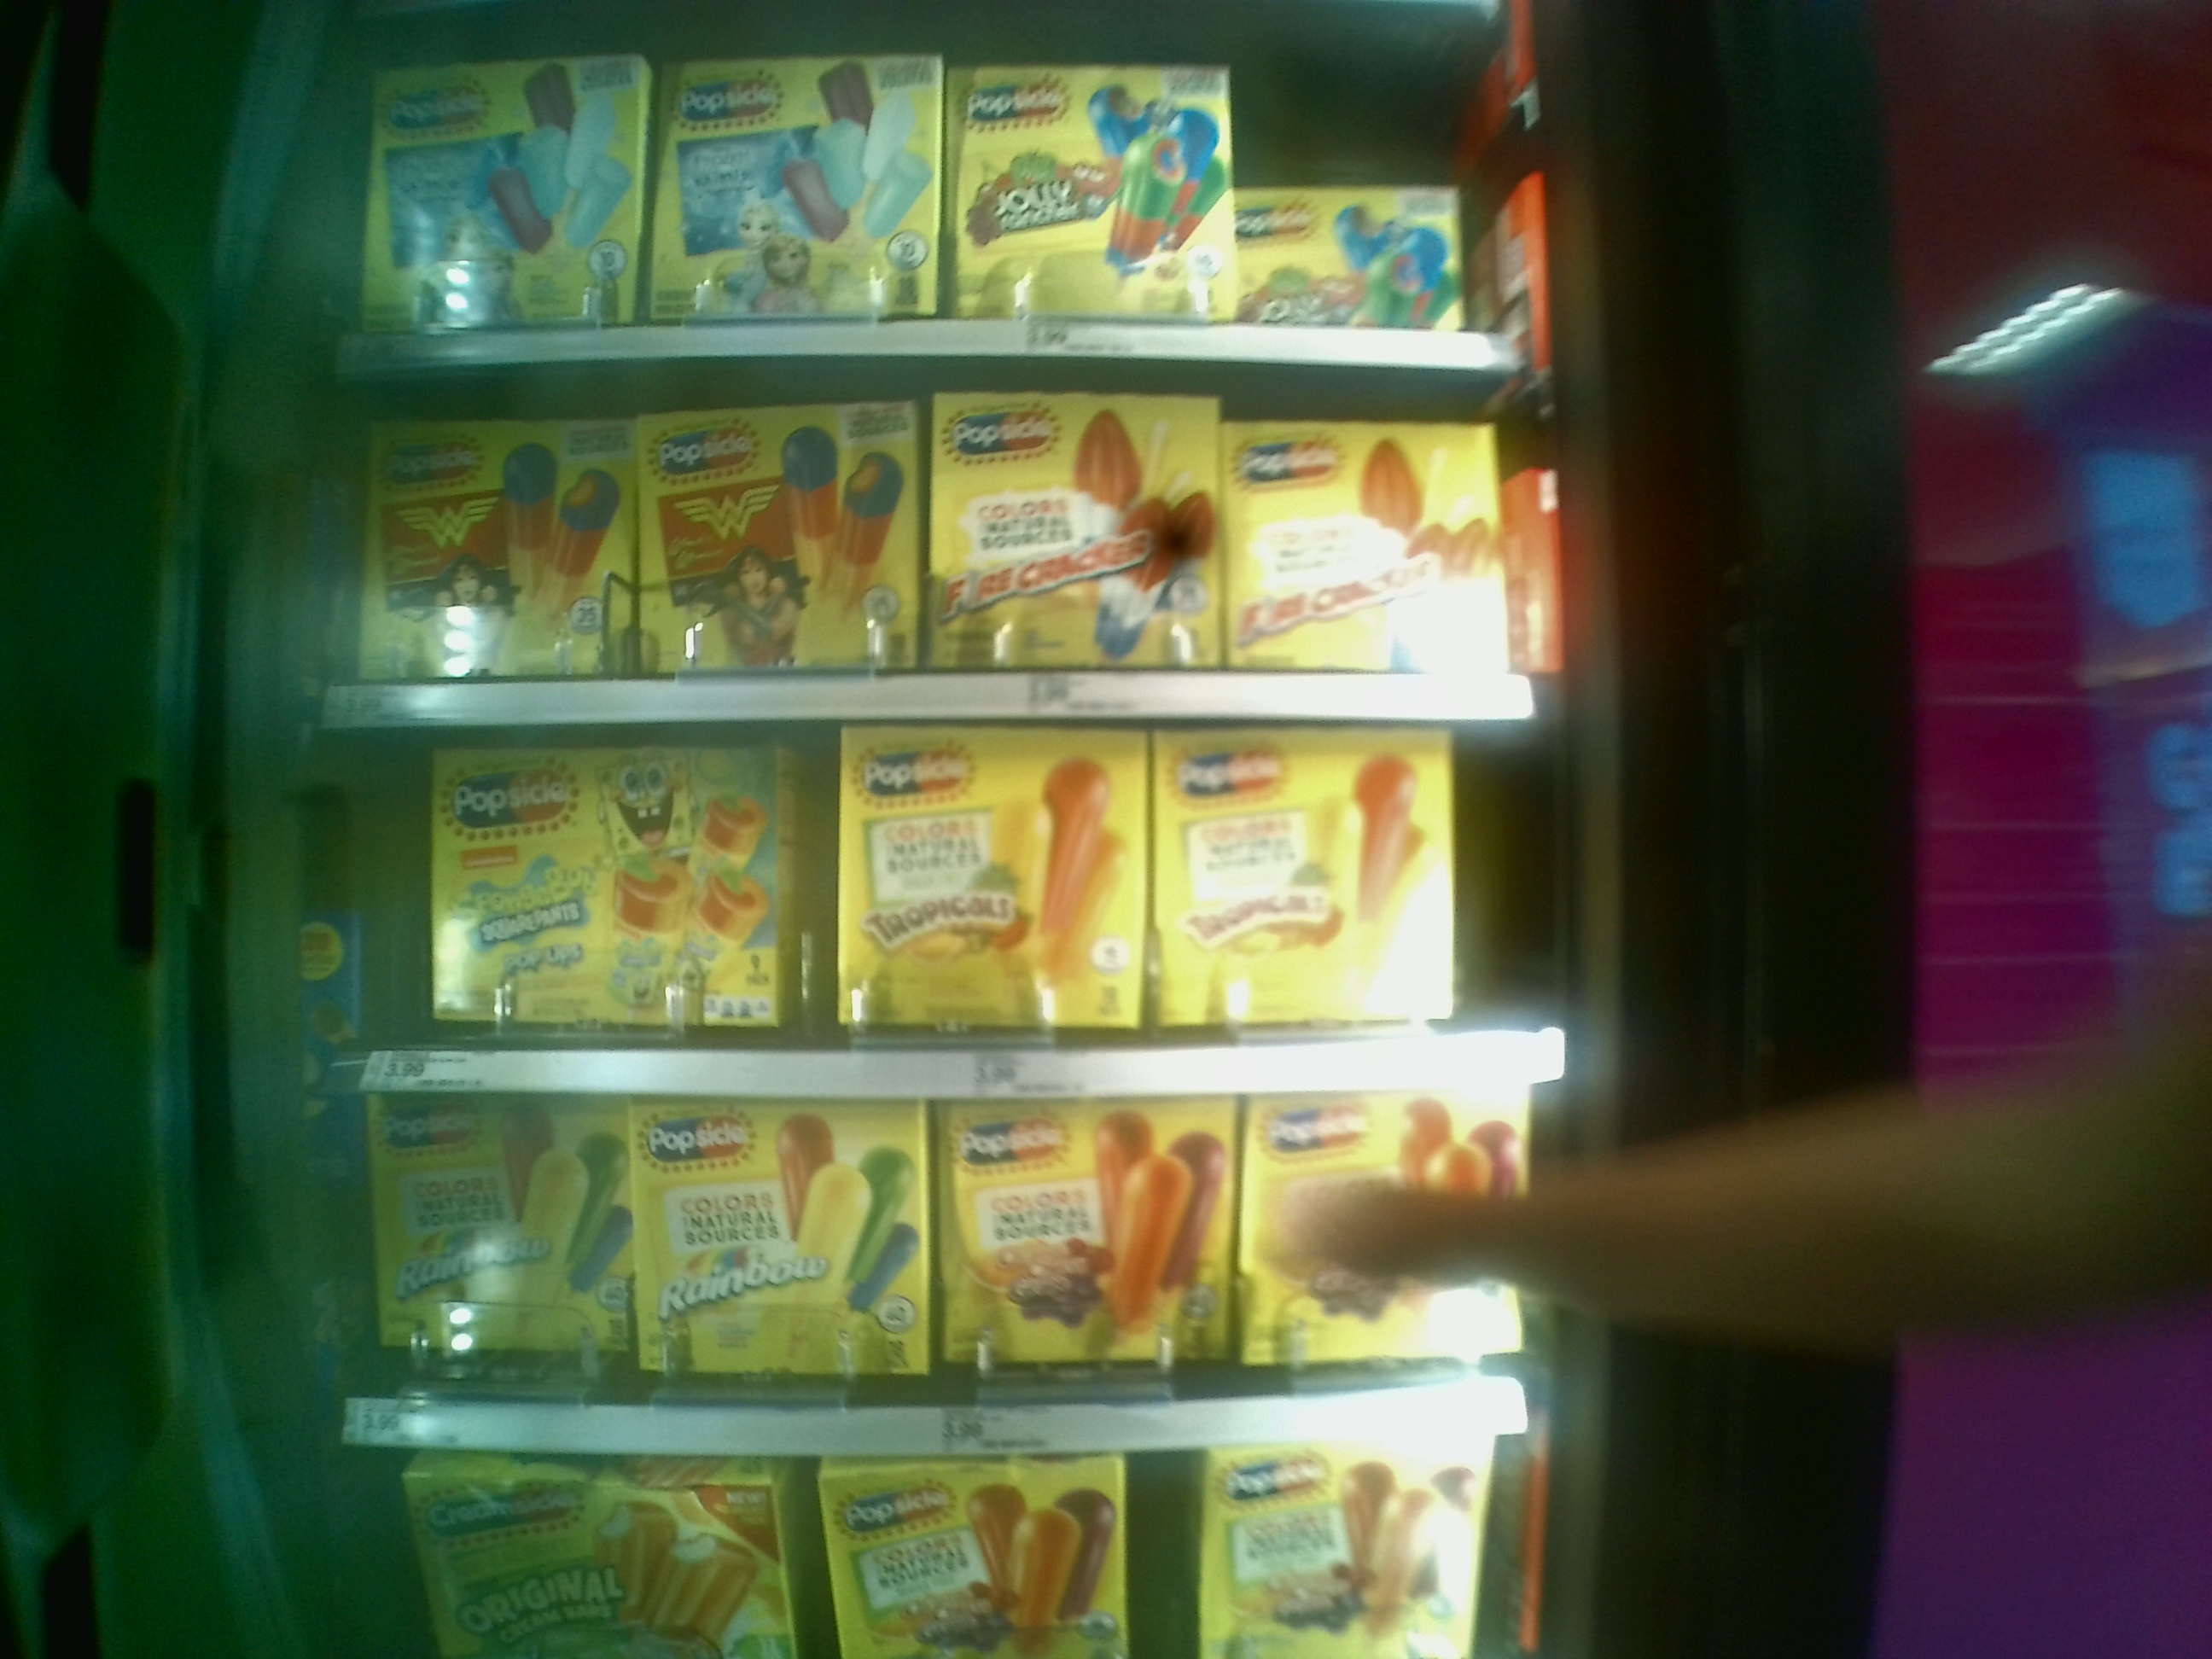frozen-food-shelf: (315, 727, 1583, 1098), (319, 373, 1545, 728)
